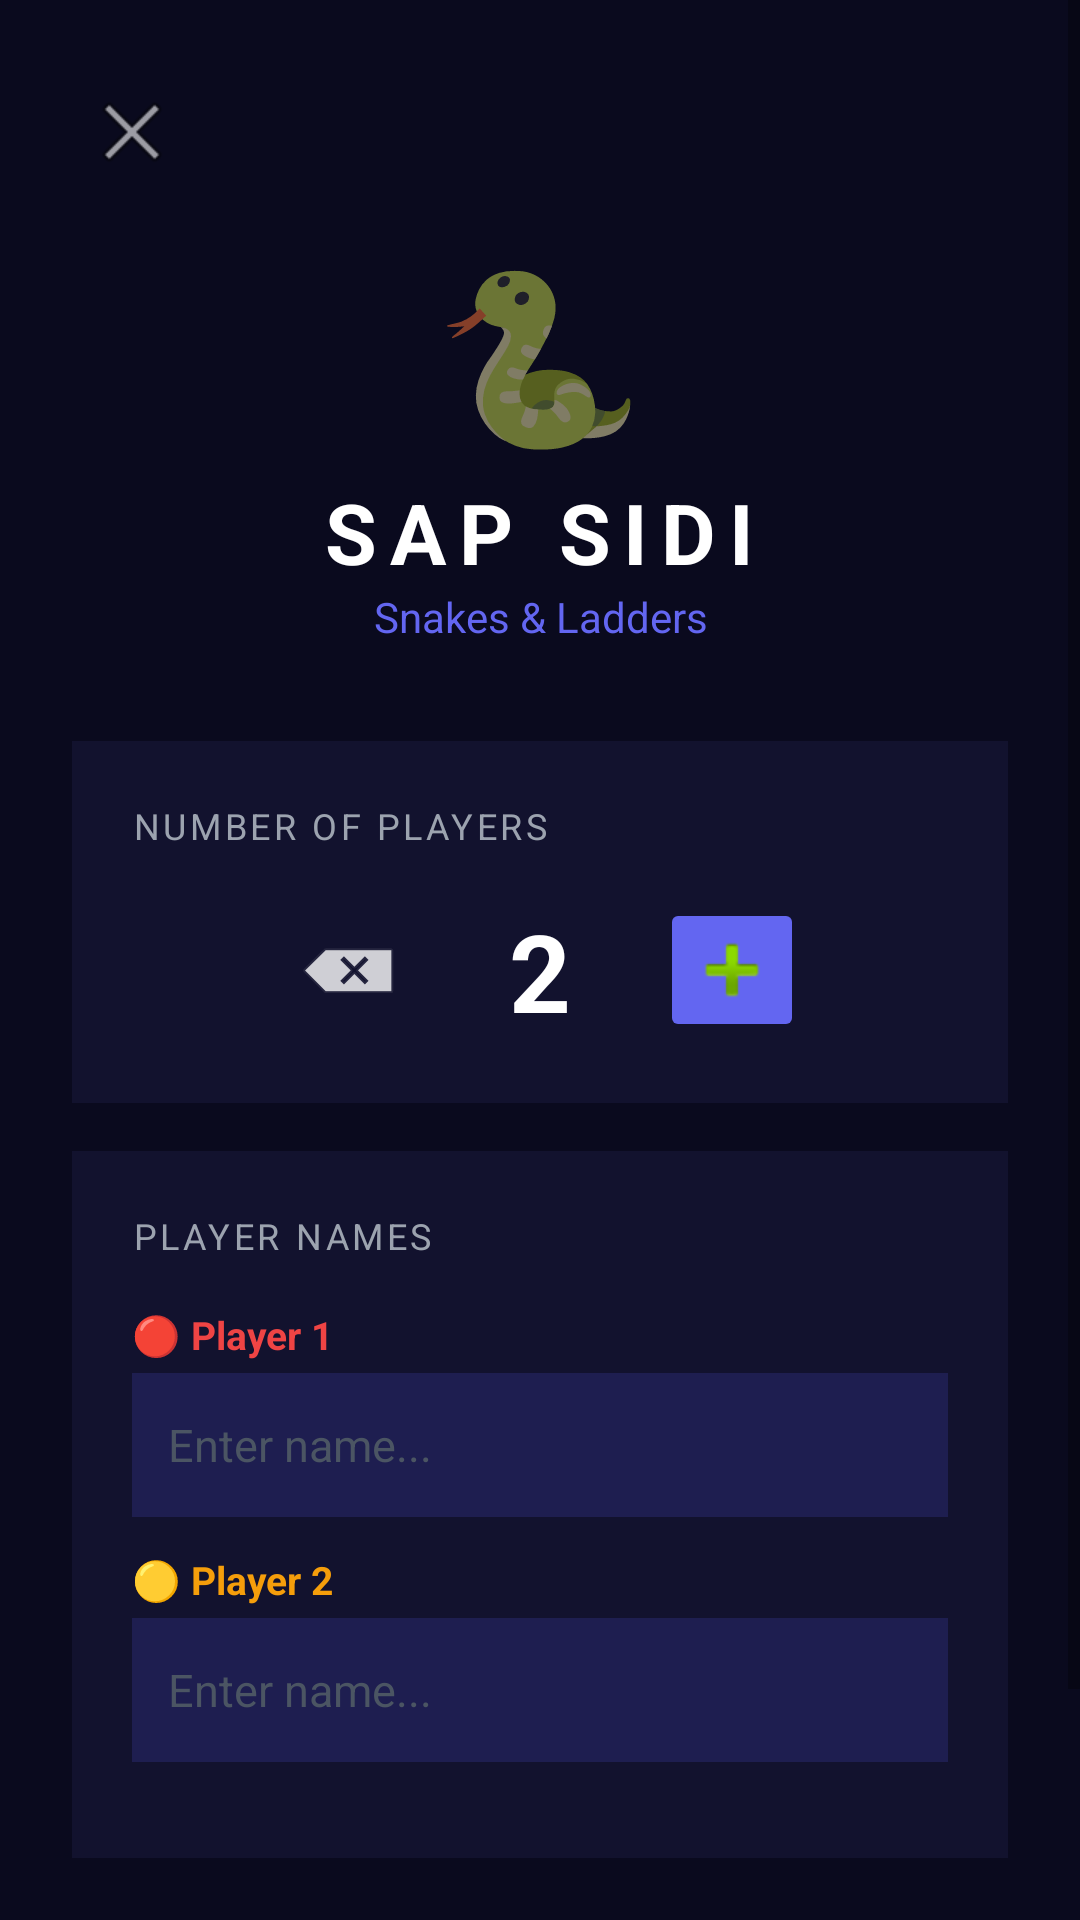

Icon click points for this 1080 × 1920 phone screenshot, format (x=x, y=y):
add: (x=732, y=970)
close clear cancel: (x=132, y=132)
delete: (x=348, y=971)
